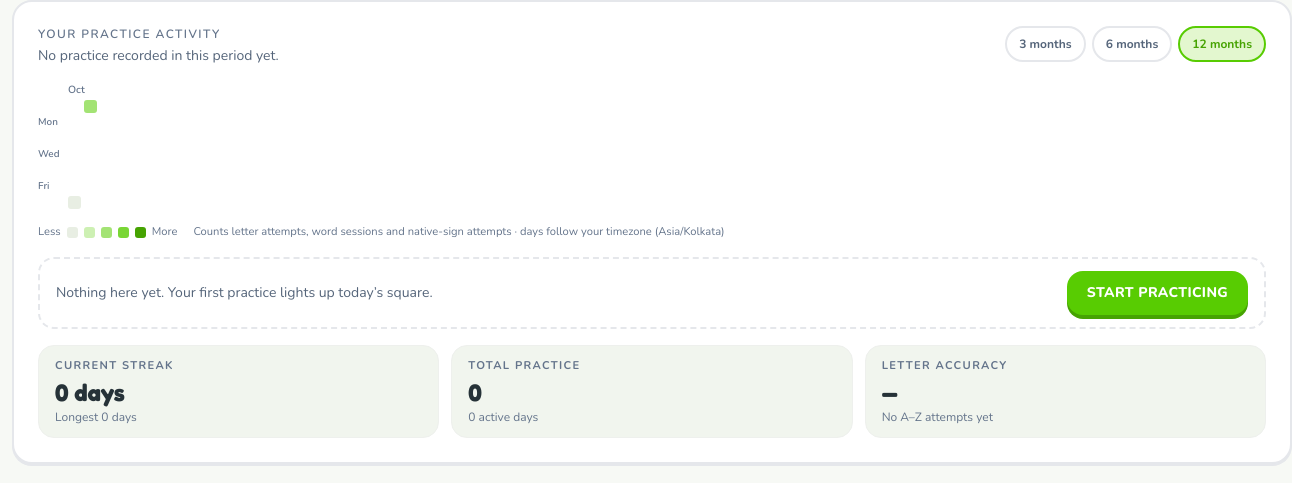
Test case: ActivityHeatmapCard › shows a tooltip with the date and actual count on hover and on keyboard focus
Hover over the cell named "Oct 25, 2026: 7 practices (5 letters, 2 words)": (90, 106) top-left (84, 100), bottom-right (97, 113)
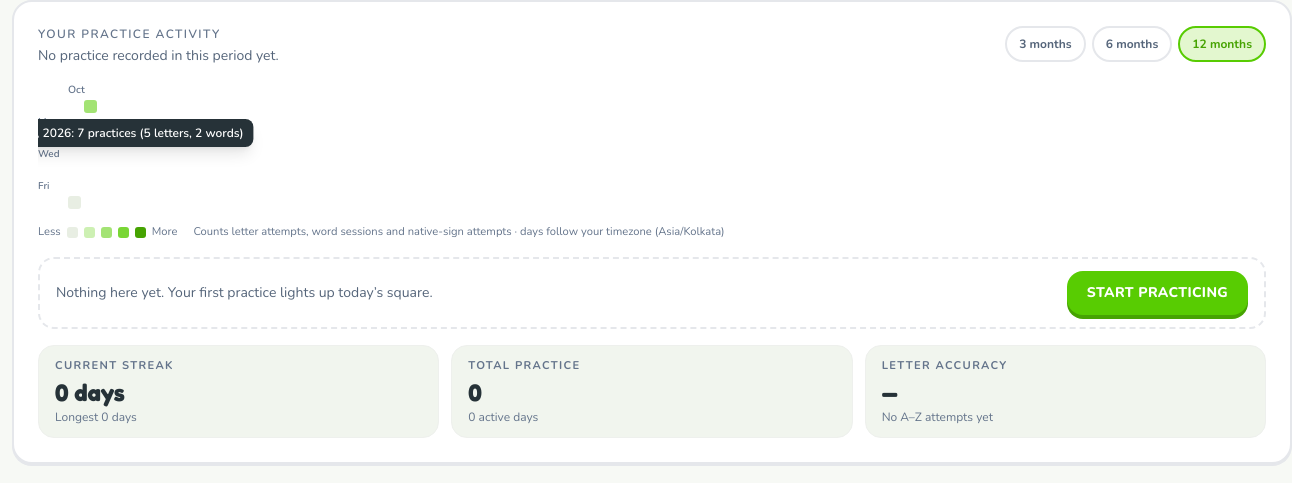
Expected: the tooltip with test id "heatmap-tooltip" shows "Oct 25, 2026: 7 practices", top-left (38, 125), bottom-right (244, 141)
Move the pointer off the table, box top-left (38, 100), bottom-right (100, 209)
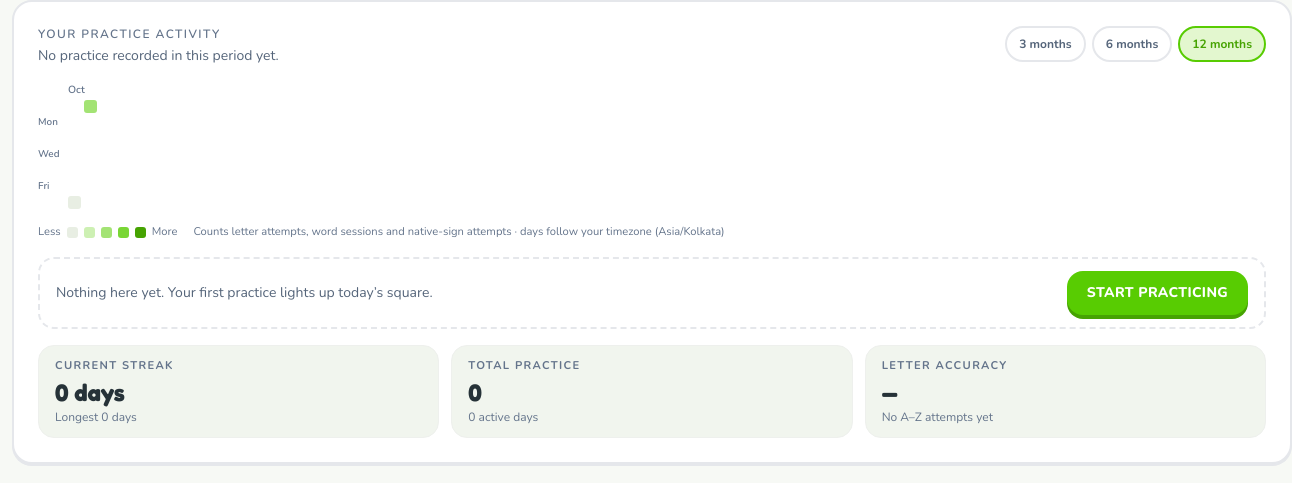
Expected: the tooltip with test id "heatmap-tooltip" is gone
Focus the cell named "Oct 25, 2026: 7 practices (5 letters, 2 words)": (90, 106) top-left (84, 100), bottom-right (97, 113)
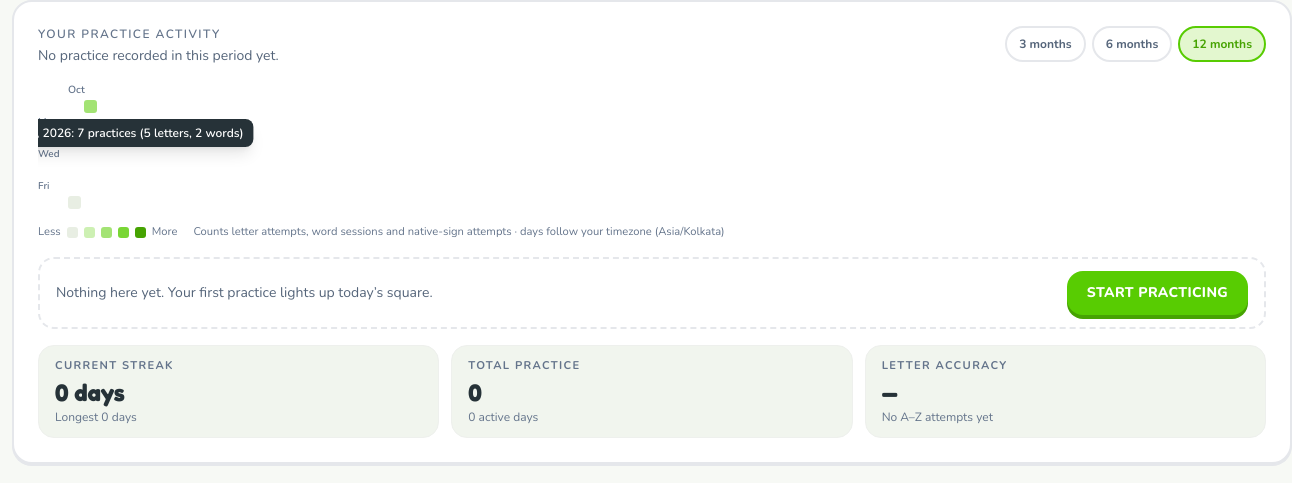
Expected: the tooltip with test id "heatmap-tooltip" shows "7 practices", top-left (38, 125), bottom-right (244, 141)
